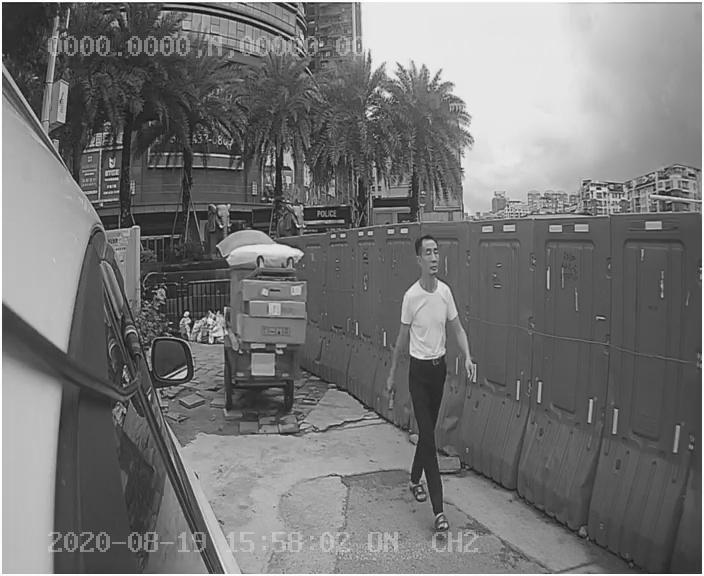person: (380, 231, 491, 532)
